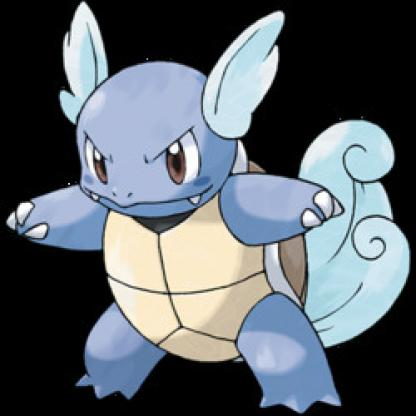Wartortle: (1, 1, 416, 416)
